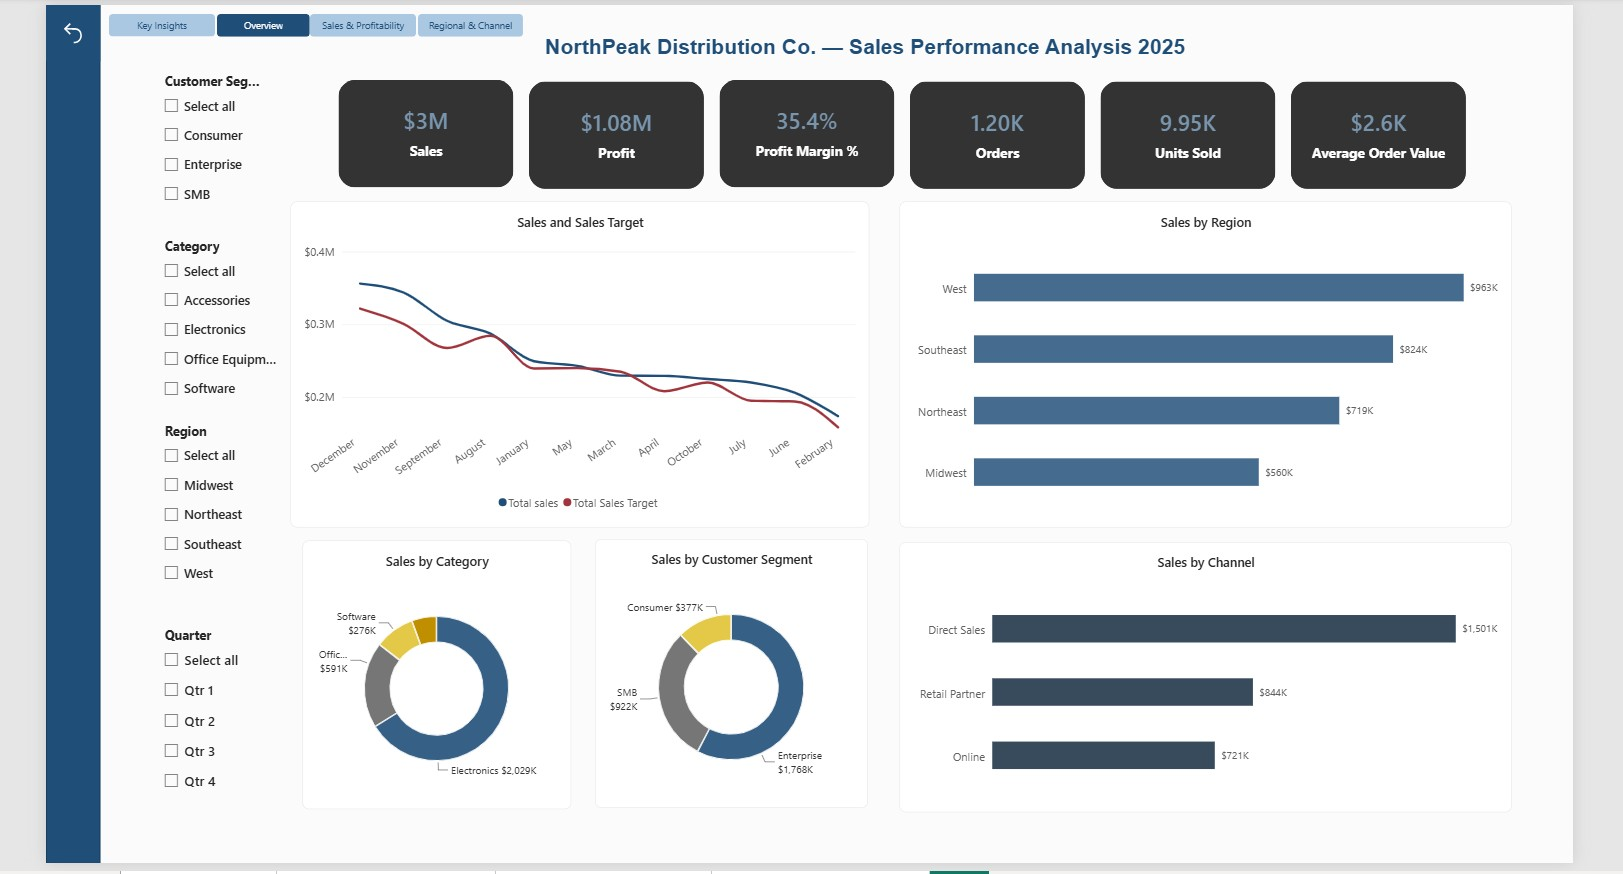

The dashboard page shown, as its layout file describes it:
{"tool":"powerbi","page":{"name":"Executive Overview","canvas":[1920,1080],"ordinal":1},"visuals":[{"type":"shape","box":[0,0,68.3,1080],"z":0,"group":"g1"},{"type":"cardVisual","title":"Profit Margin %","fields":{"Data":["Measure Table.Profit Margin %"]},"box":[846.5,94,220,135],"z":0,"group":"g2"},{"type":"lineChart","title":" Sales and Sales Target","fields":{"Y":["Measure Table.Total sales","Measure Table.Total Sales Target"],"Category":["Calendar.Month Name"]},"box":[308,248,728,410],"z":0},{"type":"actionButton","box":[0,0,68.3,70],"z":1000,"group":"g1"},{"type":"cardVisual","title":"Orders","fields":{"Data":["Measure Table.Total Orders"]},"box":[1086.1,96.2,220,135],"z":1000,"group":"g2"},{"type":"barChart","title":"Sales by Region","fields":{"Category":["Sales_Data.Region"],"Y":["Measure Table.Total sales"]},"box":[1073.9,248.1,770,410],"z":1000},{"type":"cardVisual","title":"Total Sales","fields":{"Data":["Measure Table.Total Units Sold"]},"box":[1325.6,96.2,220,135],"z":2000,"group":"g2"},{"type":"donutChart","title":"Sales by Category","fields":{"Category":["Products.Category"],"Y":["Measure Table.Total sales"]},"box":[322.2,673.3,337.8,337.8],"z":2000},{"type":"cardVisual","title":"Profit","fields":{"Data":["Measure Table.Total Profit"]},"box":[607,95.1,220,135],"z":3000,"group":"g2"},{"type":"donutChart","title":"Sales by Customer Segment","fields":{"Category":["Sales_Data.Customer Segment"],"Y":["Measure Table.Total sales"]},"box":[690,672.2,343.3,337.8],"z":3000},{"type":"cardVisual","title":"Total Sales","fields":{"Data":["Measure Table.Average Order Value"]},"box":[1565.2,96.2,220,135],"z":4000,"group":"g2"},{"type":"clusteredBarChart","title":" Sales by Channel","fields":{"Category":["Sales_Data.Sales Channel"],"Y":["Measure Table.Total sales"]},"box":[1074,676,770,340],"z":4000},{"type":"slicer","fields":{"Values":["Sales_Data.Customer Segment"]},"box":[142,84,150,194],"z":5000},{"type":"cardVisual","title":" Sales","fields":{"Data":["Measure Table.Total sales"]},"box":[367.4,93.4,220,135],"z":5000,"group":"g2"},{"type":"slicer","fields":{"Values":["Sales_Data.Category"]},"box":[142,292,150,218],"z":6000},{"type":"slicer","fields":{"Values":["Sales_Data.Region"]},"box":[142,524,144,244],"z":7000},{"type":"slicer","fields":{"Values":["Calendar.Date.Variation.Date Hierarchy.Quarter"]},"box":[142,782,144,250],"z":8000},{"type":"group","id":"g1","title":"Bar Group","box":[0,0,68.3,1080],"z":9000},{"type":"group","id":"g2","title":"KPI Card","box":[367.4,93.4,1417.8,137.8],"z":10000},{"type":"textbox","box":[467.5,37.5,1125,32.5],"z":11000},{"type":"actionButton","box":[214.8,10.4,116.7,28.7],"z":12000},{"type":"actionButton","box":[467.8,10.4,132,28.7],"z":13000},{"type":"actionButton","box":[332.9,10.4,133.3,28.7],"z":14000},{"type":"actionButton","box":[79.1,10.4,133.3,28.3],"z":15000}]}

Visuals, with their boxes on the page's 1920x1080 design canvas (x1, y1, x2, y2). These are canvas units, not pixel positions in the 1623x874 screenshot, which may show the page scaled, cropped or inside an application window:
shape: 0/0/68/1080
"Profit Margin %" cardVisual: 846/94/1066/229
" Sales and Sales Target" lineChart: 308/248/1036/658
actionButton: 0/0/68/70
"Orders" cardVisual: 1086/96/1306/231
"Sales by Region" barChart: 1074/248/1844/658
"Total Sales" cardVisual: 1326/96/1546/231
"Sales by Category" donutChart: 322/673/660/1011
"Profit" cardVisual: 607/95/827/230
"Sales by Customer Segment" donutChart: 690/672/1033/1010
"Total Sales" cardVisual: 1565/96/1785/231
" Sales by Channel" clusteredBarChart: 1074/676/1844/1016
slicer - Sales_Data.Customer Segment: 142/84/292/278
" Sales" cardVisual: 367/93/587/228
slicer - Sales_Data.Category: 142/292/292/510
slicer - Sales_Data.Region: 142/524/286/768
slicer - Calendar.Date.Variation.Date Hierarchy.Quarter: 142/782/286/1032
"Bar Group" group: 0/0/68/1080
"KPI Card" group: 367/93/1785/231
textbox: 468/38/1592/70
actionButton: 215/10/332/39
actionButton: 468/10/600/39
actionButton: 333/10/466/39
actionButton: 79/10/212/39
